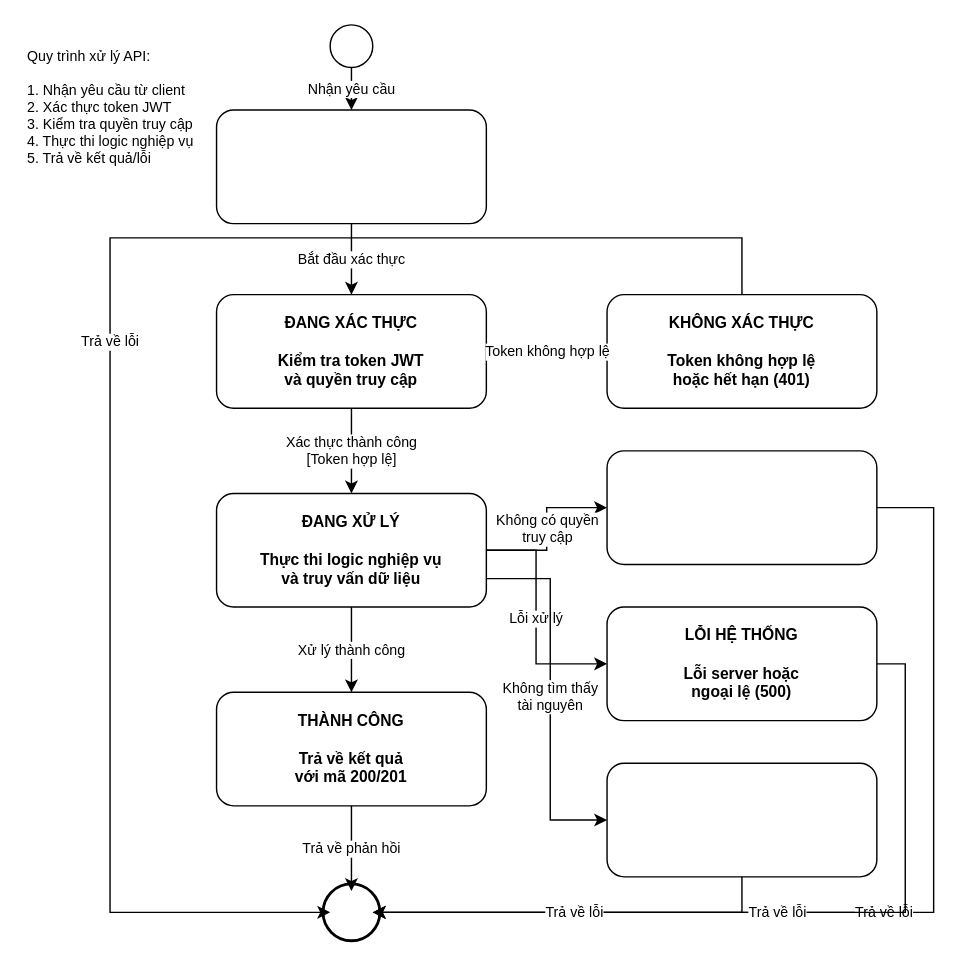
The diagram is 970 pixels wide and 967 high, and some of its shapes have lost their labels. Each missing label, with the centre of its shape:
KHÔNG CÓ QUYỀN Người dùng không được phép truy cập (403): the point at 741,506
KHÔNG TÌM THẤY Tài nguyên không tồn tại trong hệ thống (404): the point at 741,819
ĐANG CHỜ Yêu cầu đã được gửi đang chờ xử lý: the point at 350,166
